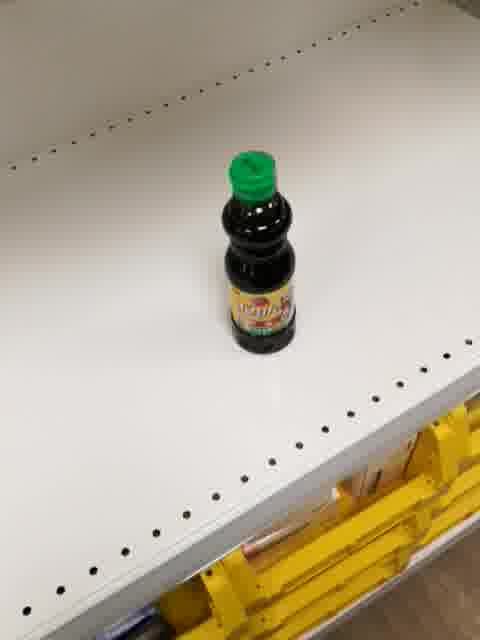cookingoil: (221, 149, 296, 356)
